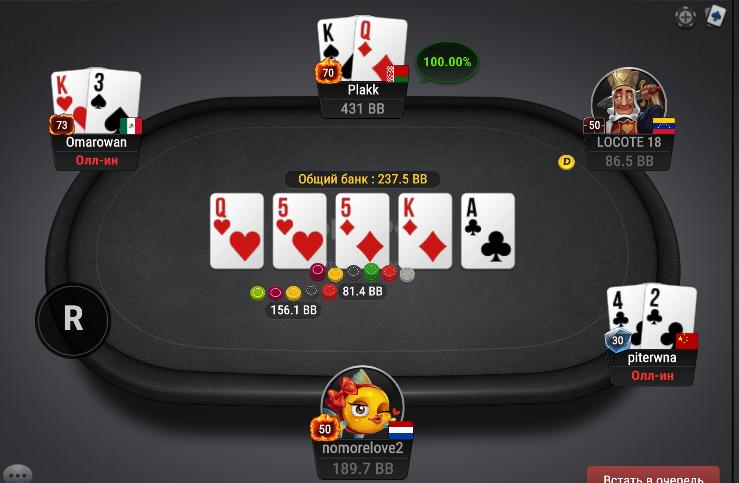2c: (643, 285, 696, 351)
3s: (88, 69, 139, 133)
4c: (607, 285, 643, 350)
5d: (335, 195, 389, 267)
5h: (273, 192, 326, 270)
Ac: (462, 194, 515, 270)
Kd: (400, 194, 450, 267)
Kh: (51, 71, 87, 133)
Ks: (315, 18, 353, 78)
Qd: (355, 17, 407, 79)
Qh: (210, 193, 264, 267)
